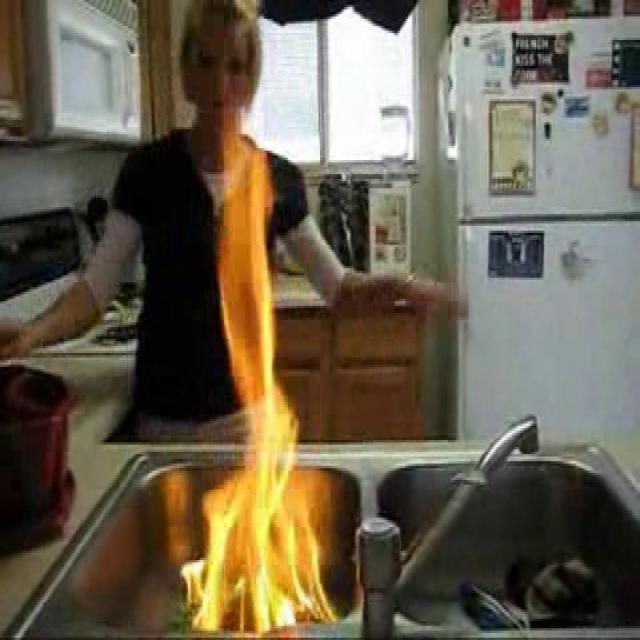fire: (195, 148, 326, 614)
